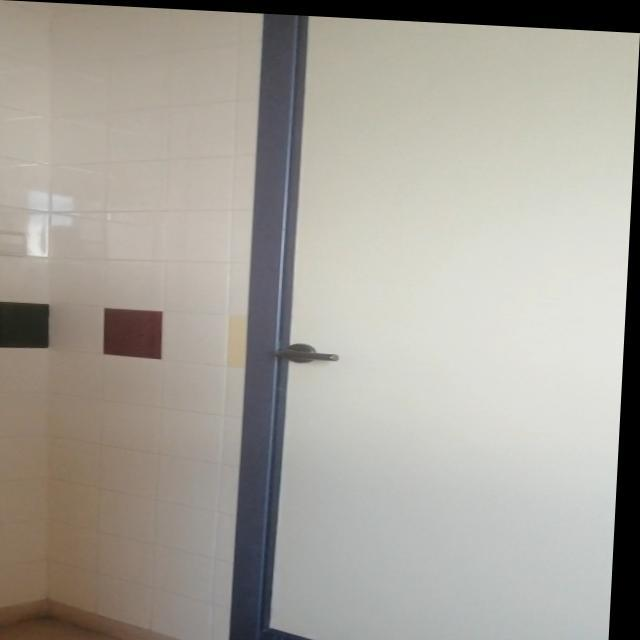door_handle: (282, 343, 346, 360)
